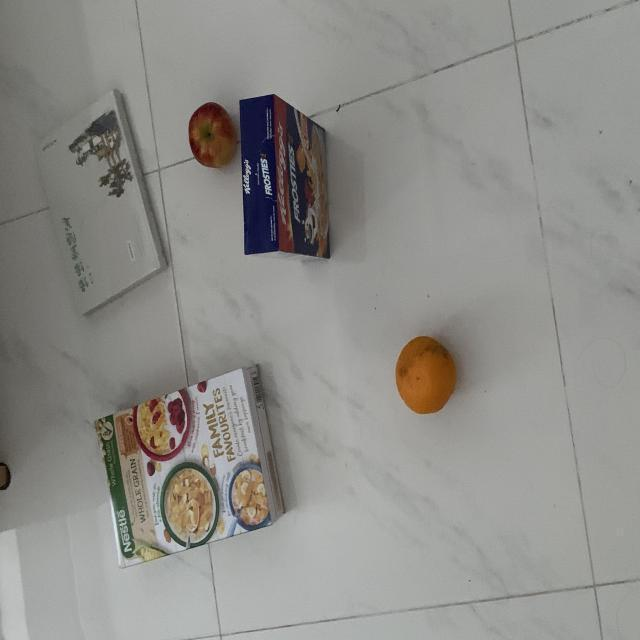Apple: (186, 98, 240, 170)
Book: (32, 90, 172, 324)
Cerealbox: (94, 359, 288, 573), (237, 90, 334, 264)
Orange: (395, 332, 460, 416)
